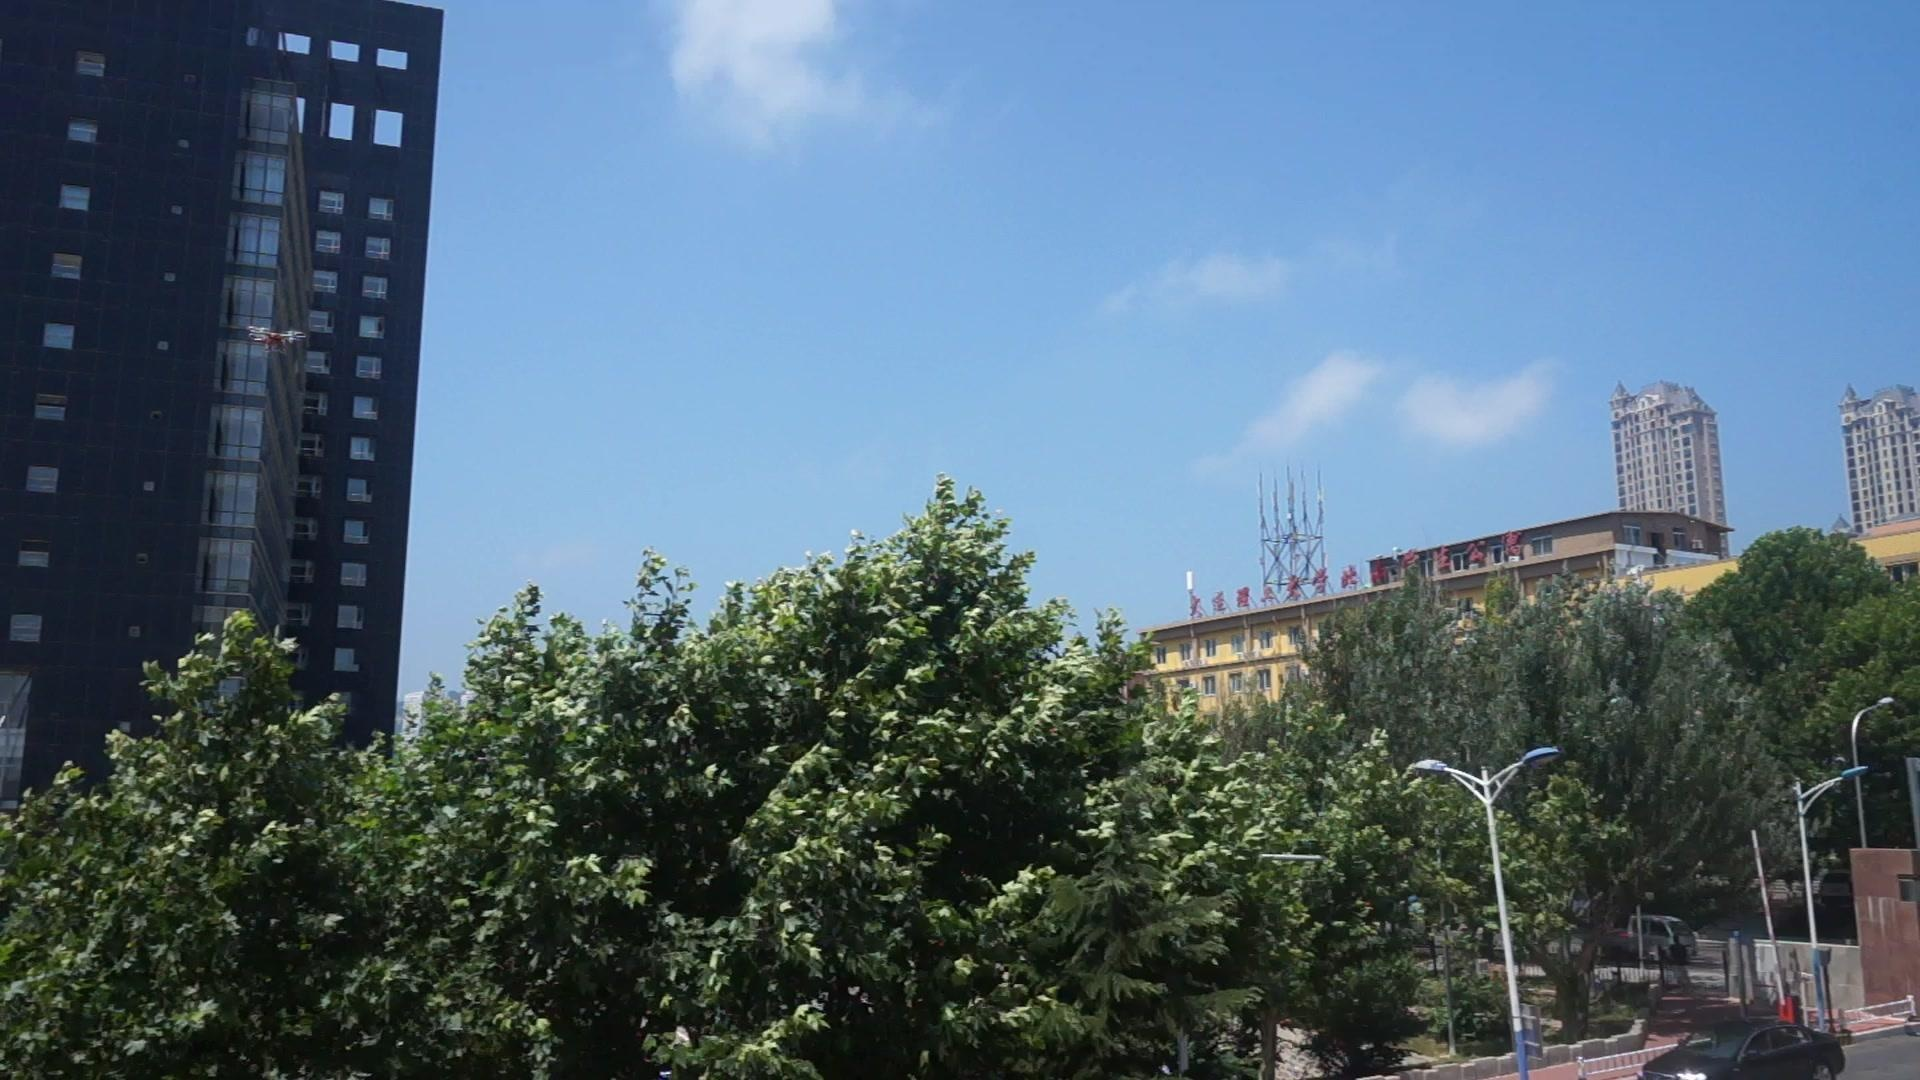UAV: (248, 327, 309, 355)
